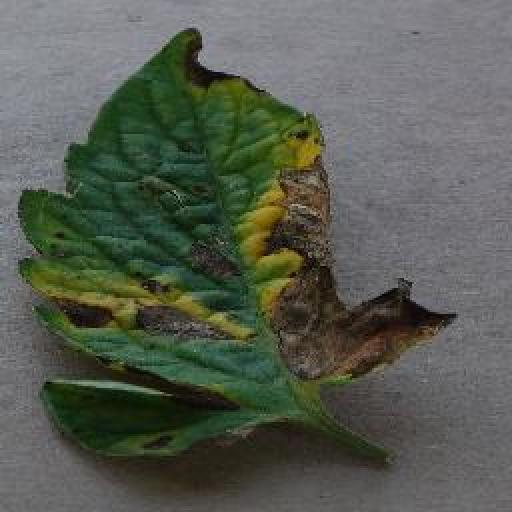Early Blight: (15, 24, 456, 464)
